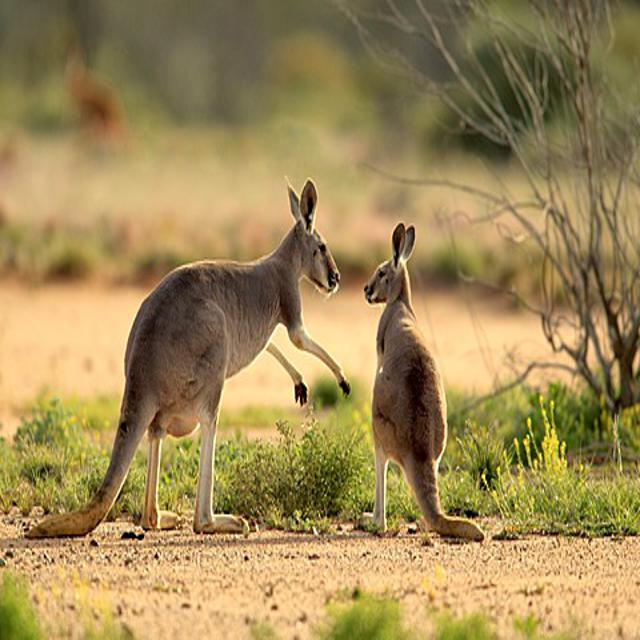kangaroo: (105, 177, 346, 531), (356, 217, 439, 534)
